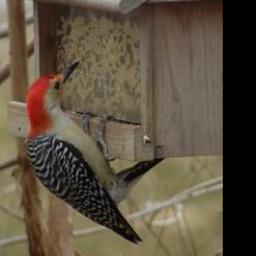Woodpecker: (20, 59, 157, 238)
